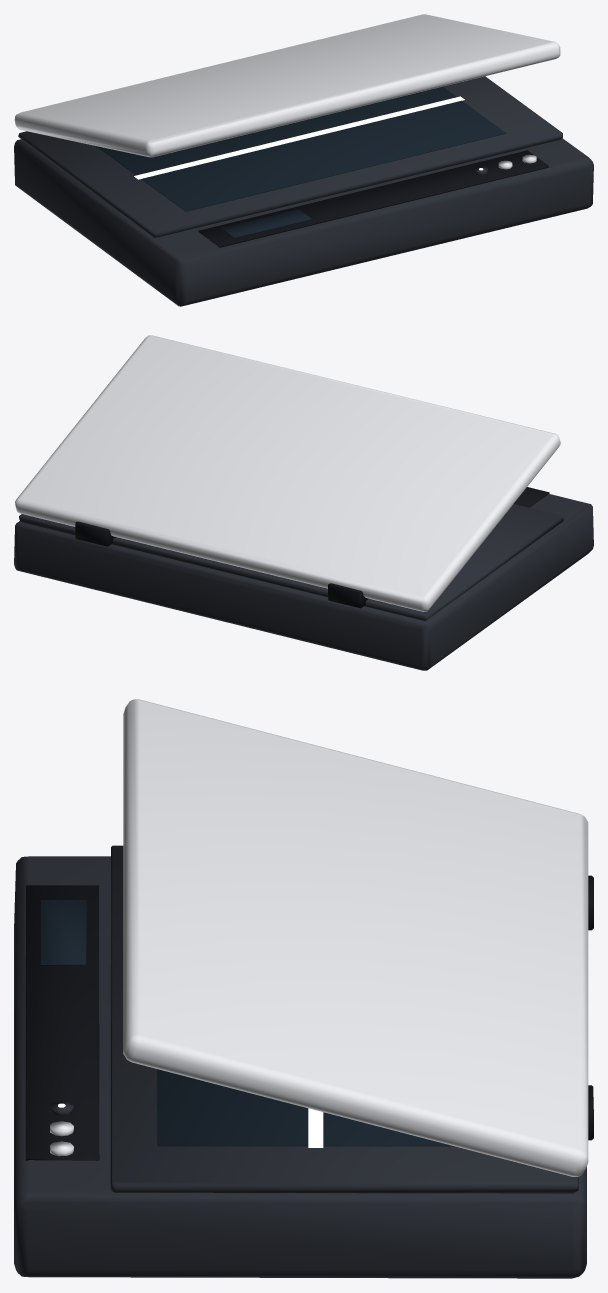
Rendered from dev-scanner_lod2.glb.
3 views of the same model, one above another, from view 1: azimuth 30°, elevation 25°; view 2: azimuth 150°, elevation 25°; view 3: azimuth 270°, elevation 25° (orthographic). The views are drawn at different scales.
Visible parts, largest first — view 1: body; view 2: body; view 3: body.
Part boxes in pixels (x1=…): body: x1=14, y1=14, x2=593, y2=306; body: x1=14, y1=335, x2=593, y2=670; body: x1=14, y1=699, x2=593, y2=1278.
Bounding box in the file's own units: 0.43 × 0.1422 × 0.3036.
